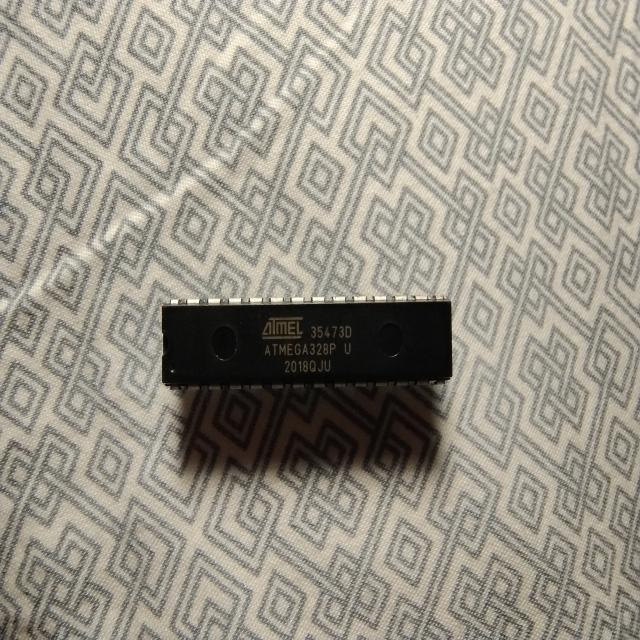atmega: (159, 292, 455, 392)
